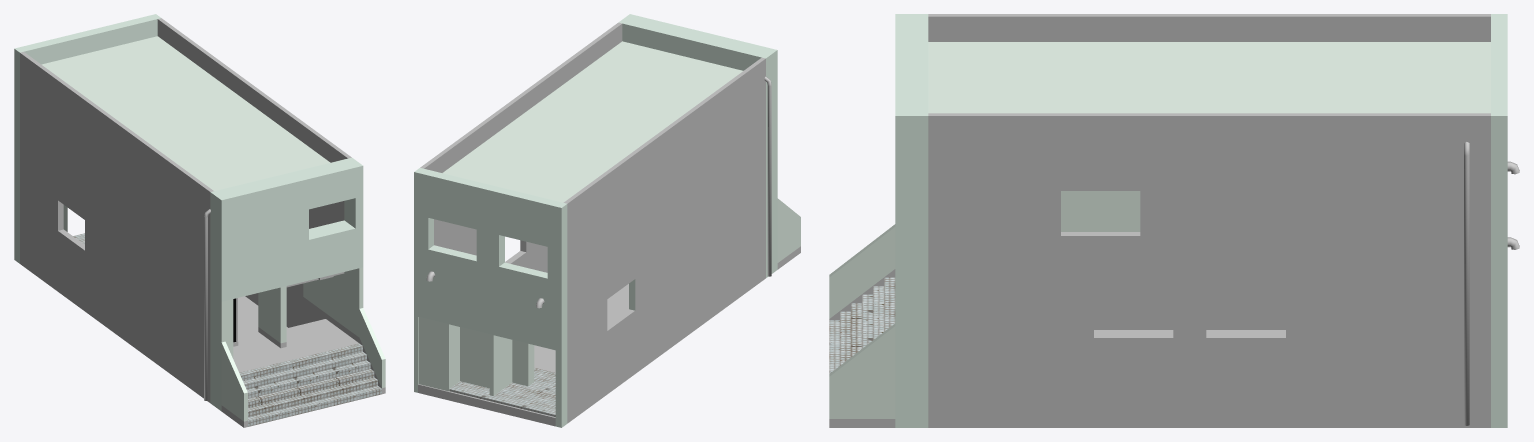
File: JapaneseBuildingModel12Base.obj
3 views of the same model, side by side, from view 1: azimuth 30°, elevation 25°; view 2: azimuth 150°, elevation 25°; view 3: azimuth 270°, elevation 25° (orthographic). The views are drawn at different scales.
Visible parts, largest first — view 1: JapaneseBuildingModel12Base; view 2: JapaneseBuildingModel12Base; view 3: JapaneseBuildingModel12Base.
Part boxes in pixels (x1,y1,x2,y2): JapaneseBuildingModel12Base: (14,14,385,427); JapaneseBuildingModel12Base: (414,14,800,427); JapaneseBuildingModel12Base: (829,14,1519,427).
Size of the model in its own units: 7.88 by 10.4 by 20.87.
